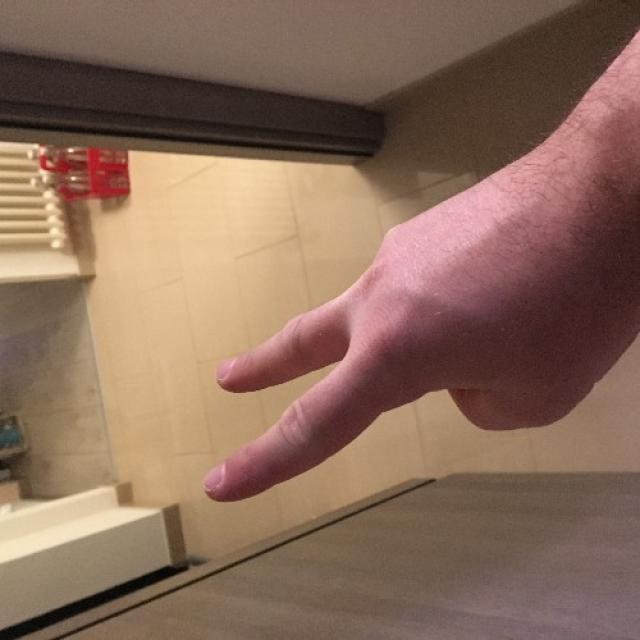scissors: (206, 208, 640, 510)
